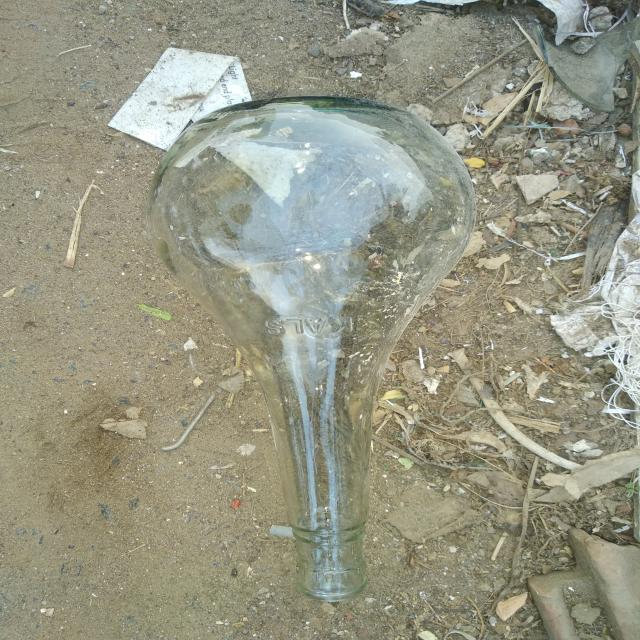thuytinh: (148, 96, 475, 601)
